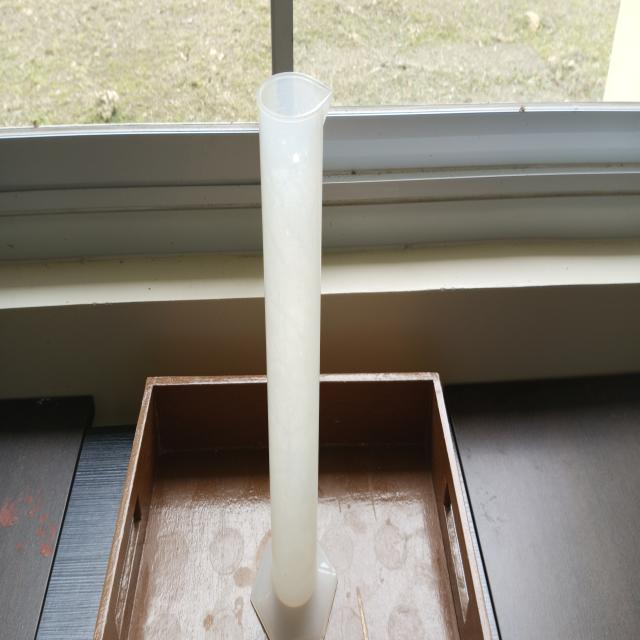graduated_cylinder: (247, 66, 337, 640)
